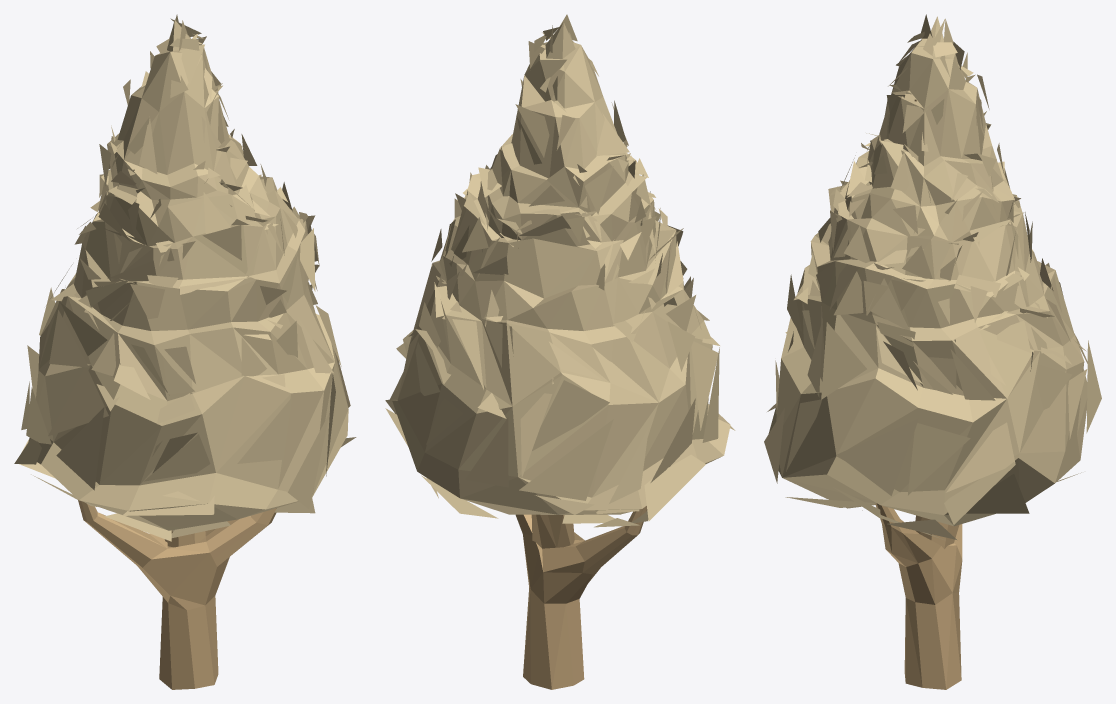
Rendered from DriedtulipB-2.fbx.
3 renders of one model, left to right at view 1: azimuth 30°, elevation 25°; view 2: azimuth 150°, elevation 25°; view 3: azimuth 270°, elevation 25°, orthographic.
Parts seen in each view (by area): view 1: leaves.004, extraleaves, trunk.004; view 2: leaves.004, extraleaves, trunk.004; view 3: leaves.004, extraleaves, trunk.004.
Boxes of the visible parts, bbox=[...] form: leaves.004: bbox=[28, 20, 348, 530]; extraleaves: bbox=[14, 14, 356, 541]; trunk.004: bbox=[78, 90, 276, 689]; leaves.004: bbox=[392, 22, 730, 514]; extraleaves: bbox=[385, 14, 735, 527]; trunk.004: bbox=[515, 506, 647, 689]; leaves.004: bbox=[768, 16, 1087, 526]; extraleaves: bbox=[764, 14, 1101, 539]; trunk.004: bbox=[875, 99, 962, 689].
Size of the model in its own units: 374 by 816 by 378.
